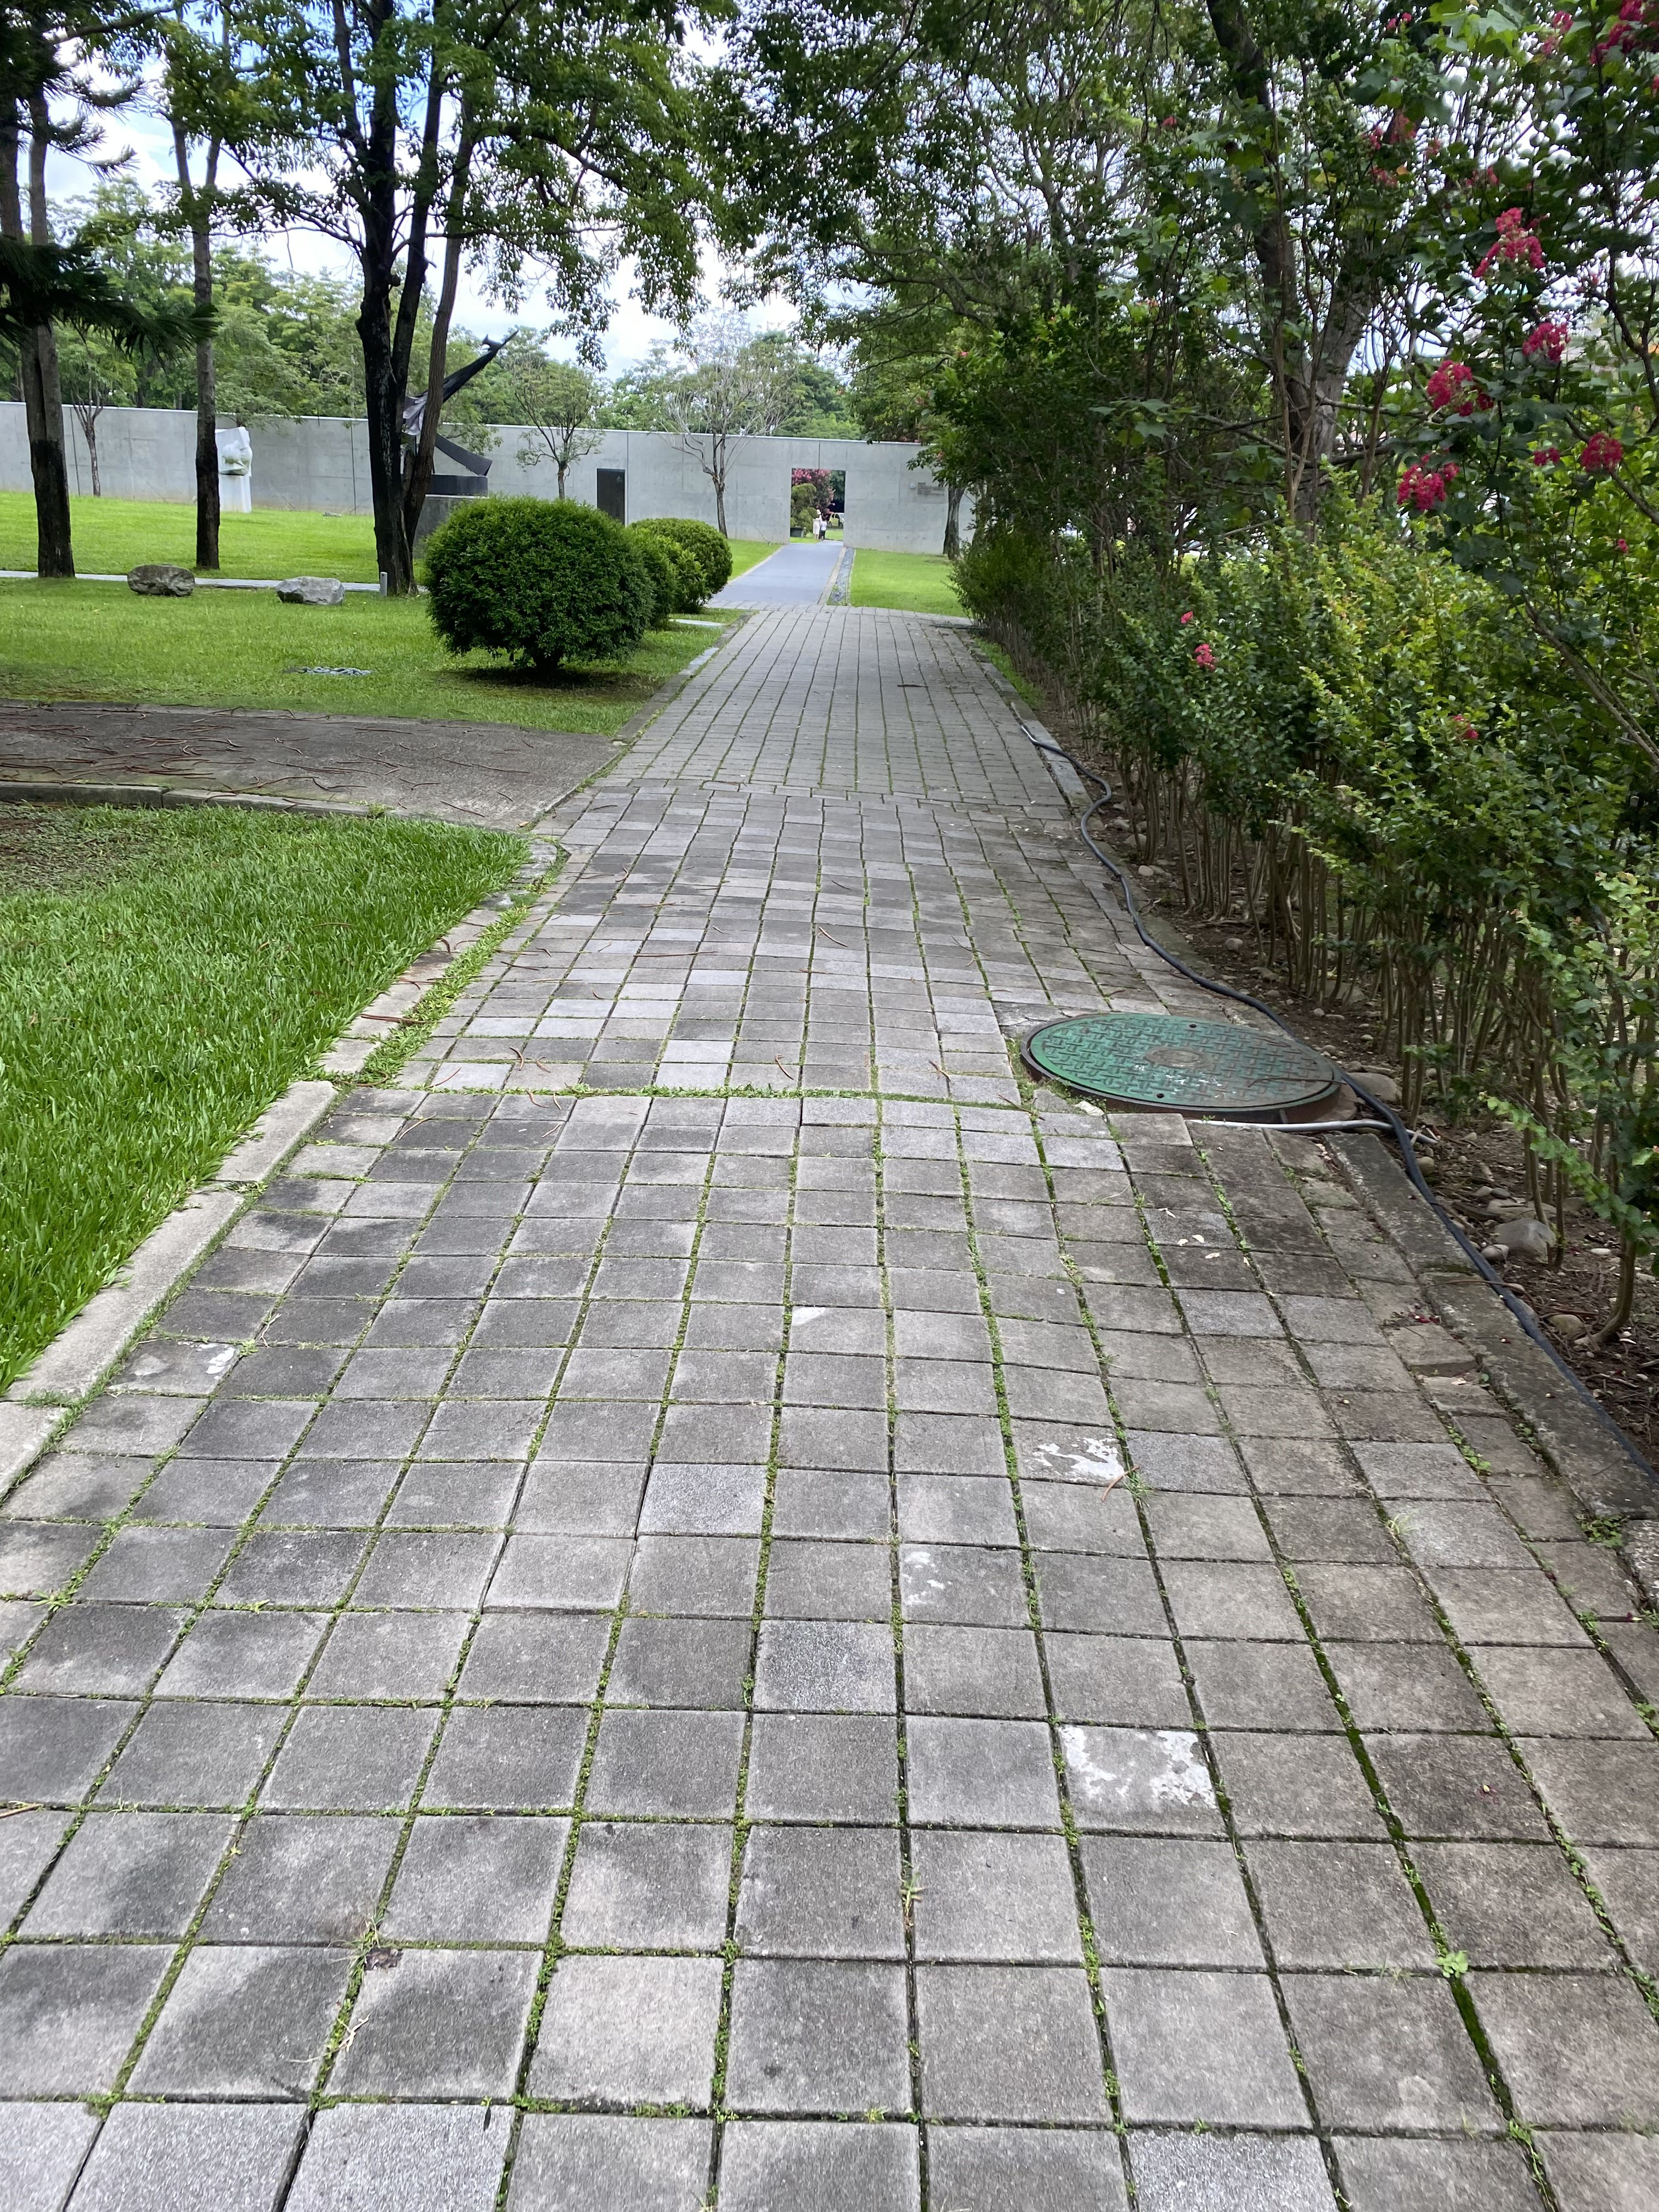0: (709, 507, 1032, 705)
sidewalk: (0, 683, 1659, 2212)
